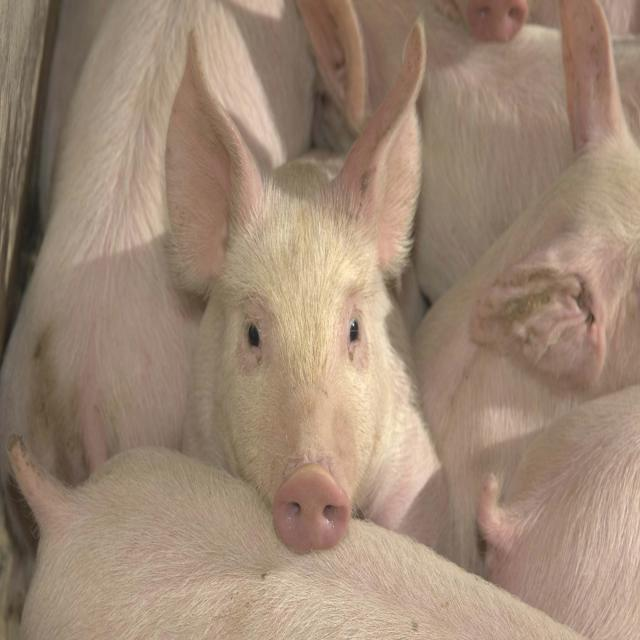pig: (0, 0, 314, 482), (165, 24, 441, 550), (414, 0, 640, 566), (10, 445, 582, 639), (355, 0, 573, 301), (477, 385, 640, 639)
